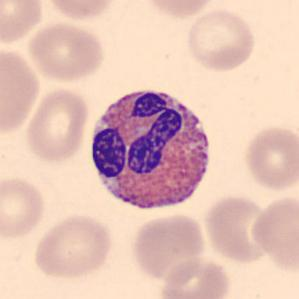Eosinophil: (83, 78, 219, 222)
RBC: (31, 212, 113, 280), (129, 211, 208, 280), (23, 85, 91, 164), (25, 20, 106, 84), (183, 6, 258, 74), (202, 192, 272, 264), (248, 192, 298, 272), (0, 43, 43, 136), (242, 122, 298, 192), (159, 256, 233, 299), (0, 174, 47, 240), (0, 0, 46, 46), (40, 0, 119, 22), (143, 0, 218, 20)
